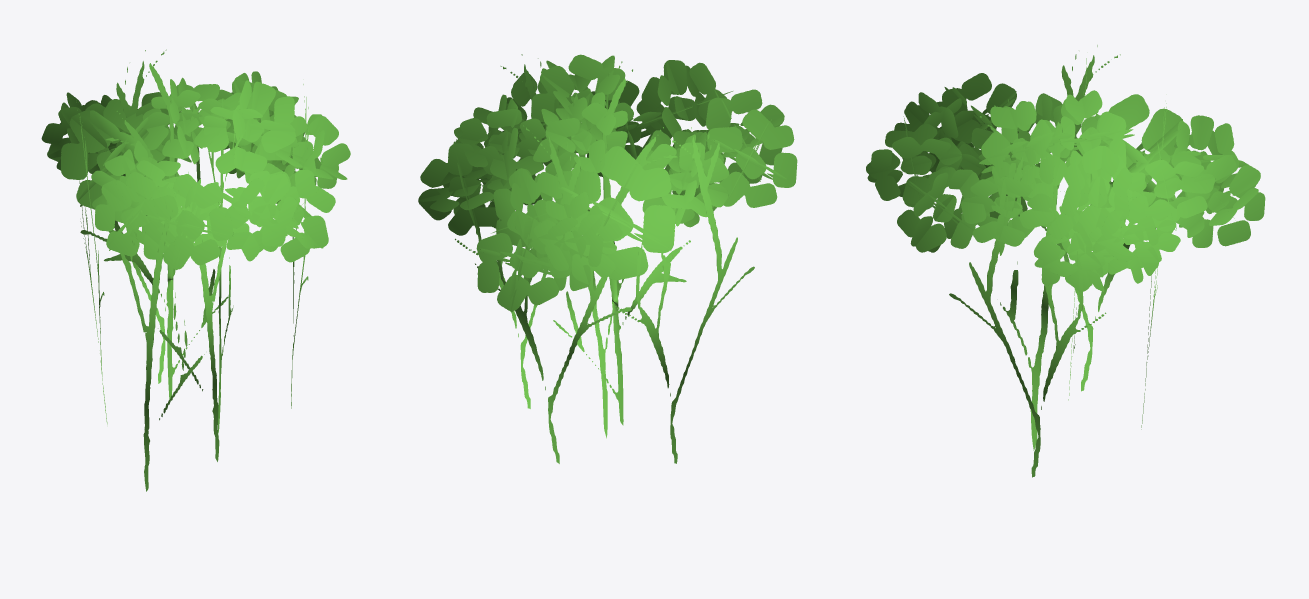
File: sn-stylised-bush-1.glb
3 renders of one model, left to right at view 1: azimuth 30°, elevation 25°; view 2: azimuth 150°, elevation 25°; view 3: azimuth 270°, elevation 25°, orthographic. The views are drawn at different scales.
Parts seen in each view (by area): view 1: StylisedBush1; view 2: StylisedBush1; view 3: StylisedBush1.
Boxes of the visible parts, bbox=[...] form: StylisedBush1: bbox=[41, 49, 350, 491]; StylisedBush1: bbox=[418, 54, 797, 463]; StylisedBush1: bbox=[866, 45, 1265, 477].
Bounding box in the file's own units: 2.49 × 3.58 × 2.96.
Materials: 1 (1 with a texture image).
